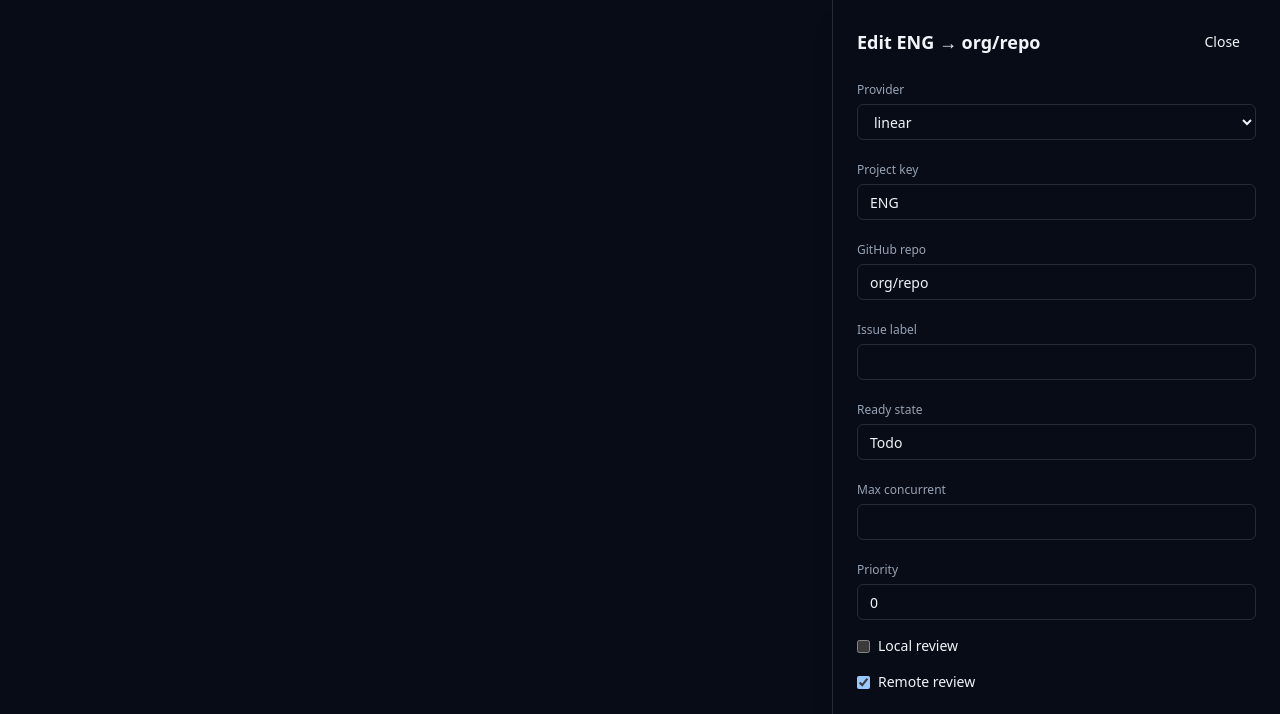
Test: BindingForm › renders the blocker list, not the conflict banner, on a drain-guard 409 from a rename
Replace the text in the field named "project_key" with "OTHER". click: (1056, 202)
box: [857,184,1256,220]
(page scrolled)
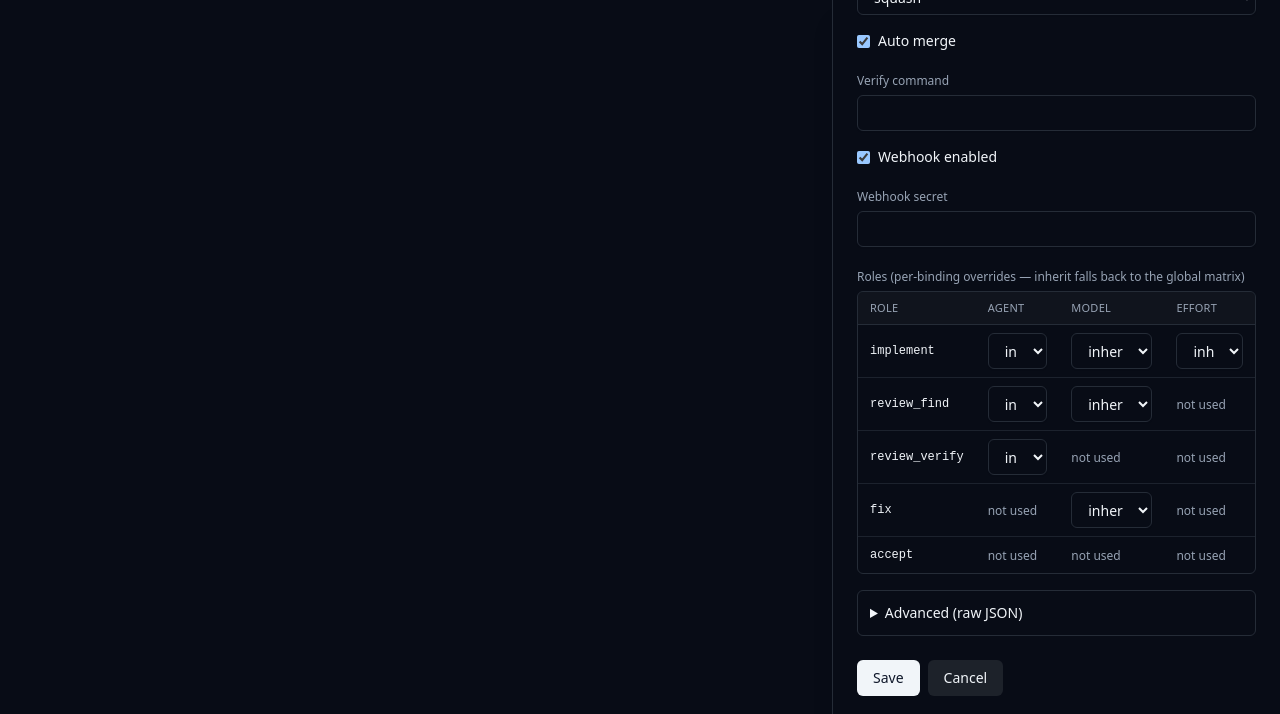
Click the button "Save". click: (888, 678)
box: [857,660,920,696]
(page scrolled)
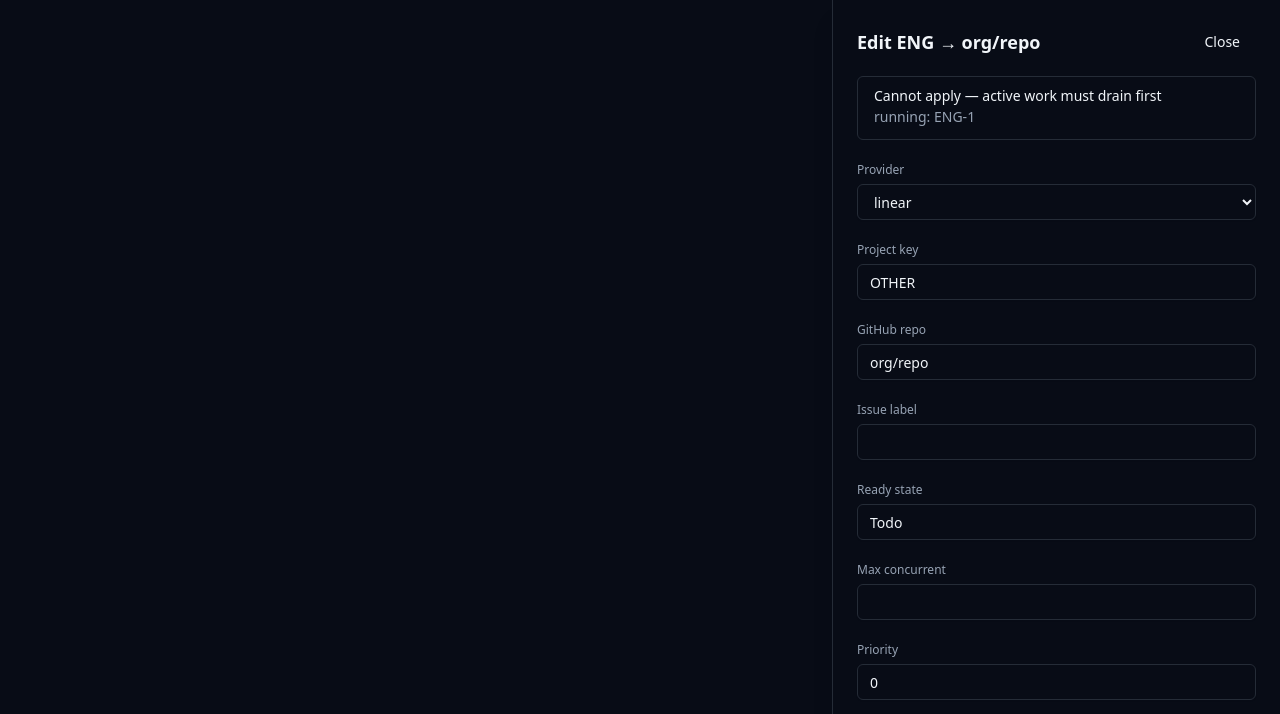
Result: the heading "Cannot apply — active work must drain first" is shown at [874,86,1162,105]
Result: the text "running: ENG-1" is shown at [874,107,975,126]
